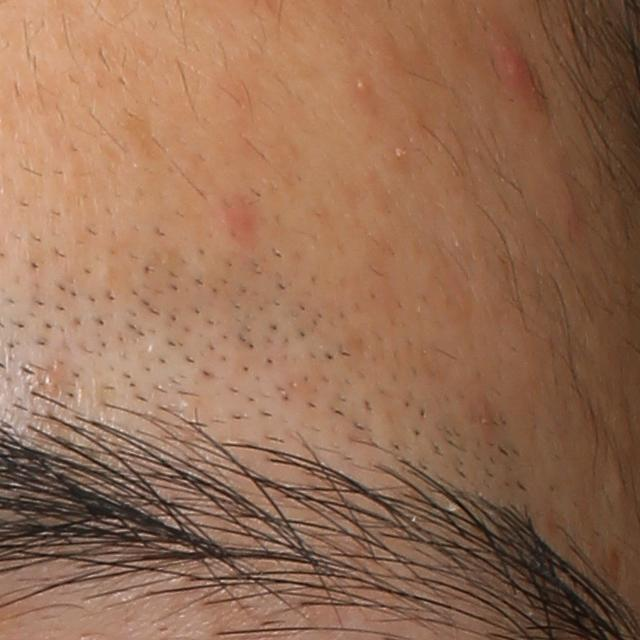papule: (494, 26, 540, 99)
